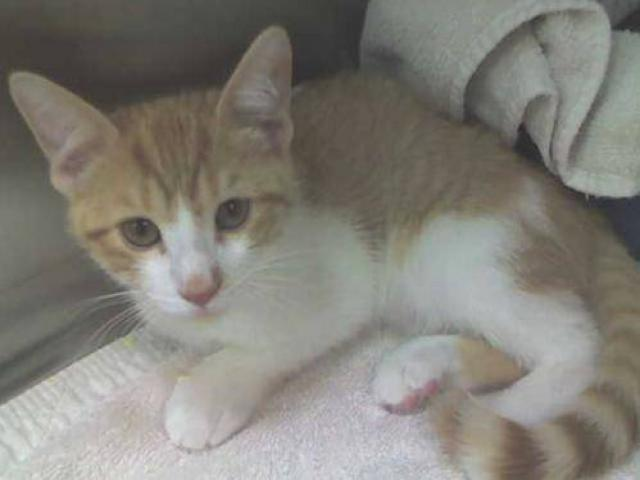cat: (17, 16, 635, 469)
